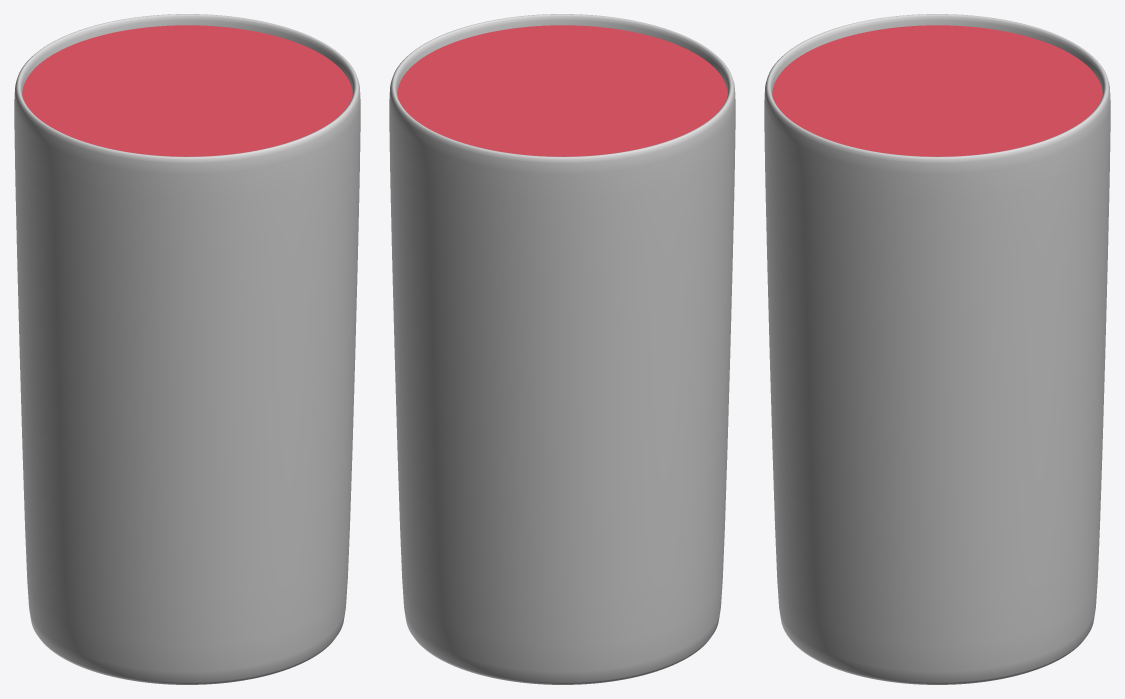
File: Bebida_roja.fbx
The picture shows the model from 3 angles, left to right: view 1: azimuth 30°, elevation 25°; view 2: azimuth 150°, elevation 25°; view 3: azimuth 270°, elevation 25°; orthographic projection.
Visible parts, largest first — view 1: vaso, Círculo; view 2: vaso, Círculo; view 3: vaso, Círculo.
Part boxes in pixels (x1,y1,x2,y2): vaso: (14,14,360,684); Círculo: (22,25,352,156); vaso: (389,14,735,684); Círculo: (397,25,727,156); vaso: (764,14,1110,684); Círculo: (772,25,1102,156).
Size of the model in its own units: 216 by 369 by 216.
